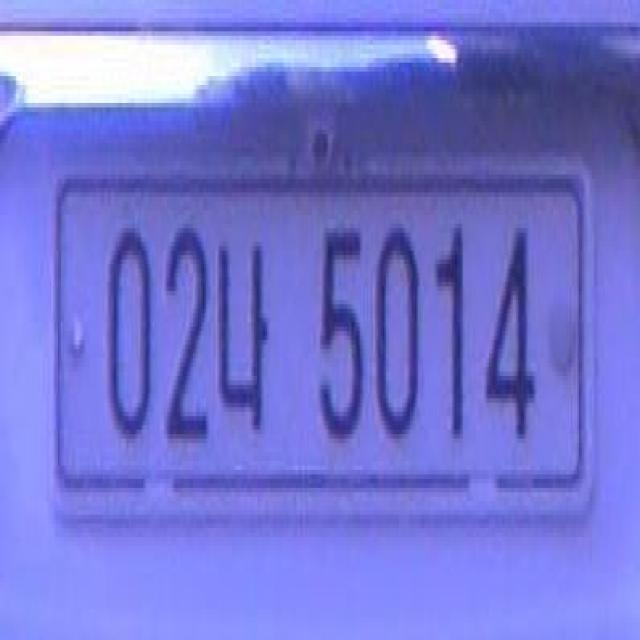illegal_plate: (51, 158, 597, 527)
